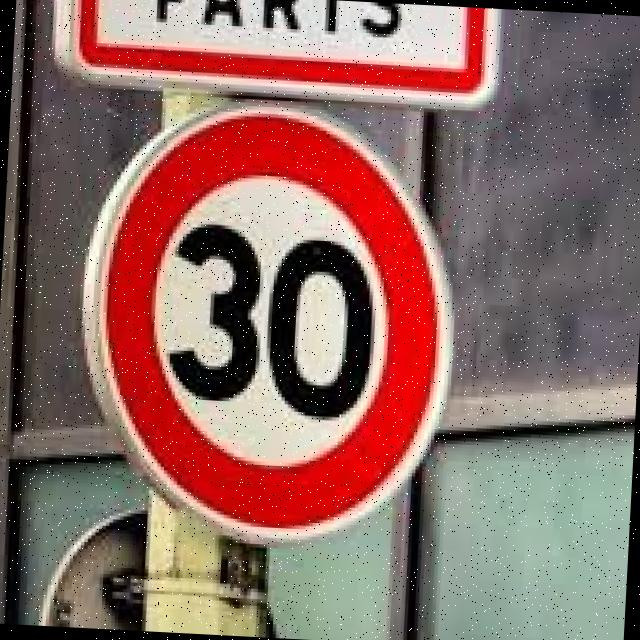speed_limit_30: (64, 93, 483, 563)
